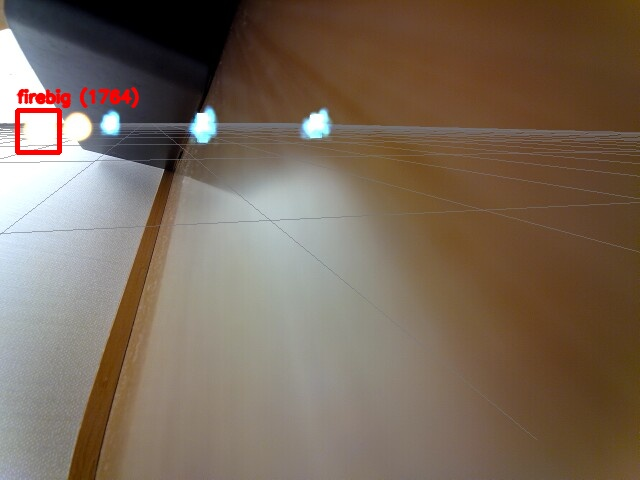firebig: (17, 110, 59, 152)
